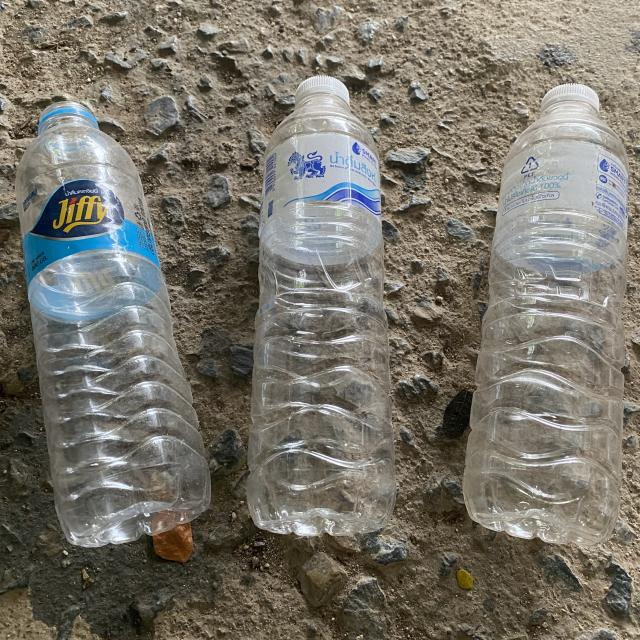plastik: (16, 102, 210, 548), (464, 85, 628, 544), (248, 78, 395, 536)
